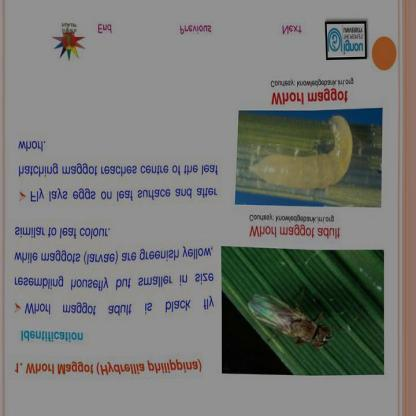whorl-maggot: (244, 112, 355, 196)
